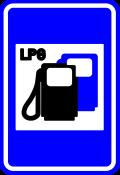Petrol Pump- Gas Station: (6, 15, 116, 149)
